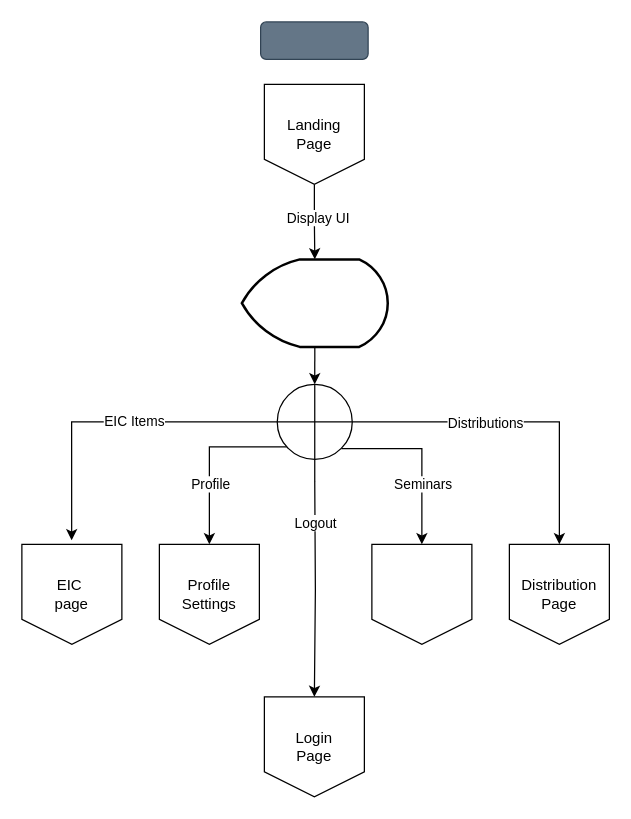
Image size: 631x819. Some labels were removed from this diagram. Here are the shapes that lost their labels. From the top down, the centre of each, then its label:
At point (313, 40): "/ Landing Page".
At point (314, 303): "Services / Information".
At point (421, 593): "Seminar Page".
